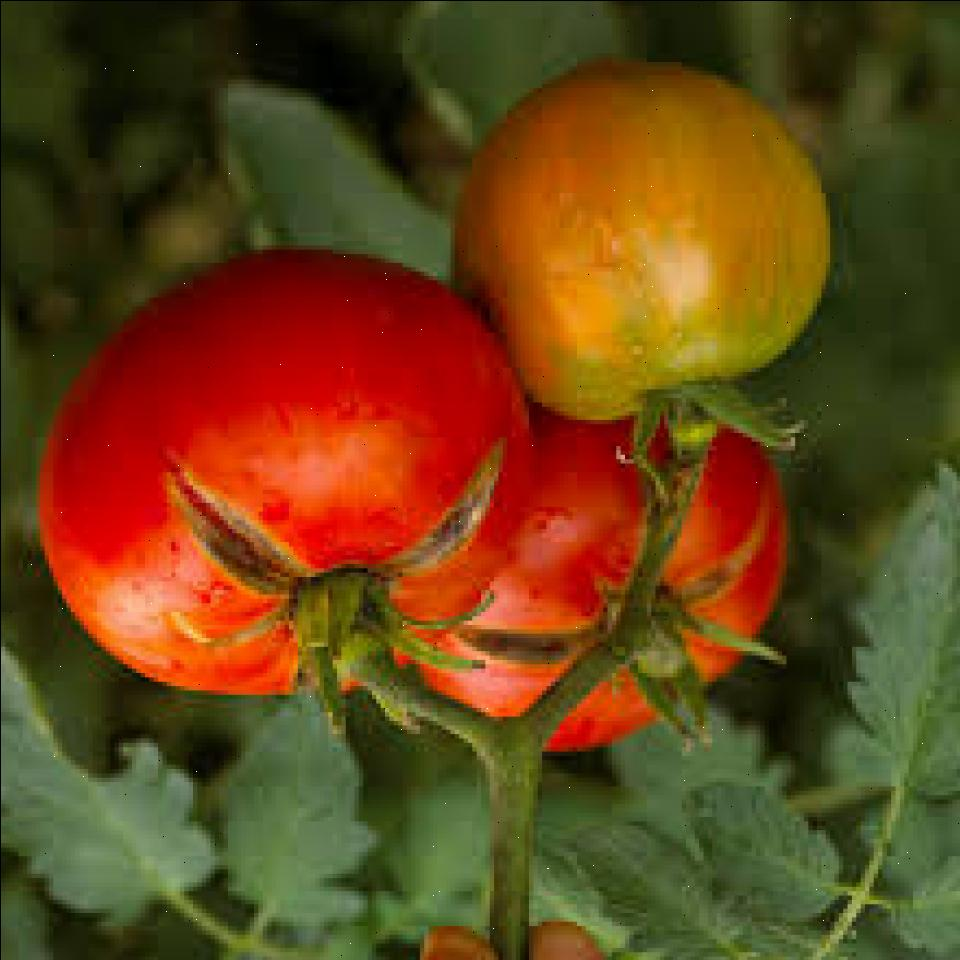Spotted wilt Virus: (449, 61, 833, 423)
